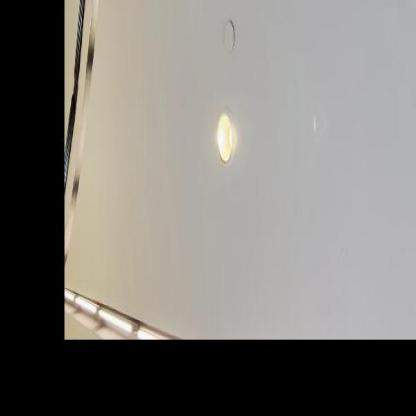light_on: (212, 104, 239, 168), (96, 300, 136, 334), (134, 316, 190, 340), (74, 289, 98, 320), (64, 284, 75, 318)
